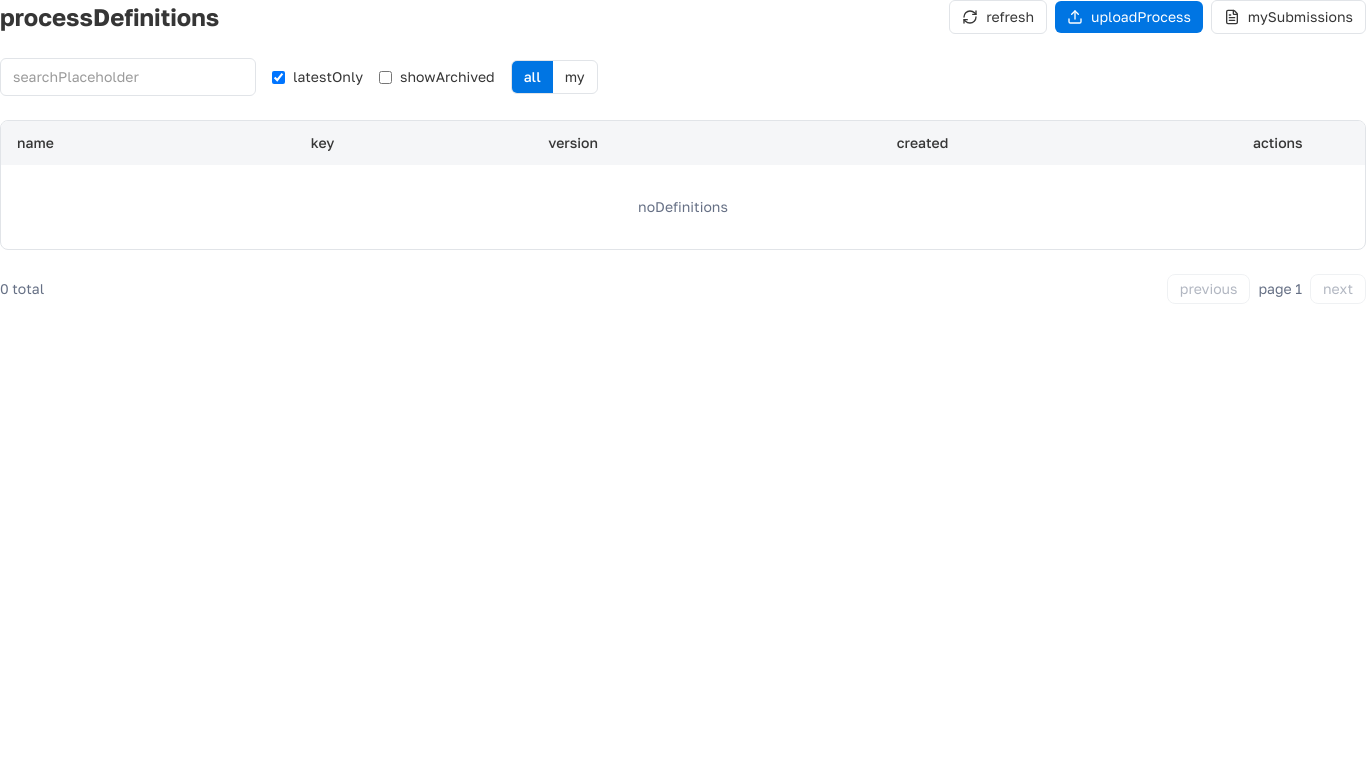
Test case: ProcessDefinitionList (WO-ACL-6 criterion 4 / WO-ACL-10 criterion 3) › WO-ACL-10 criterion 3: clicking the header button opens the upload dialog
Click the button "uploadProcess": [1129, 17] box [1055,1,1203,33]
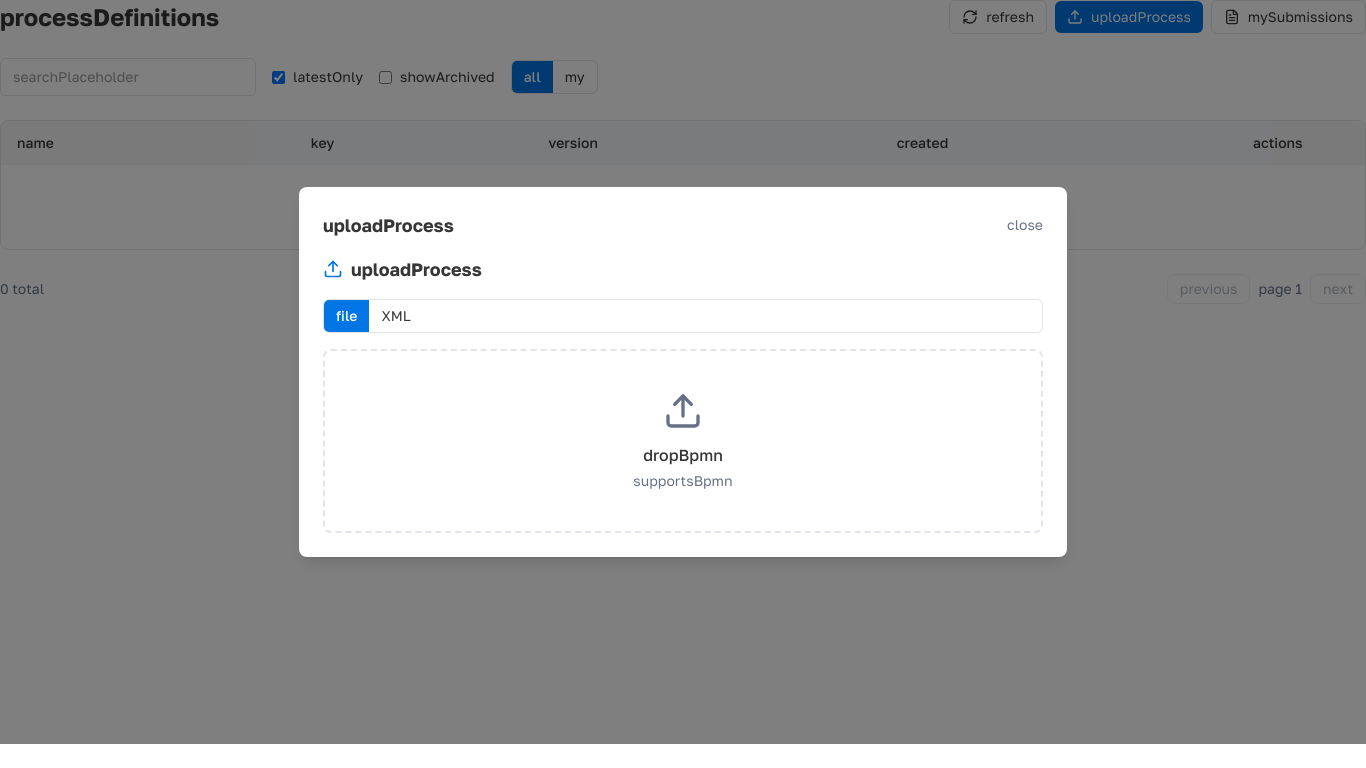
Expected: the text "dropBpmn" is shown, [643,445,723,465]
